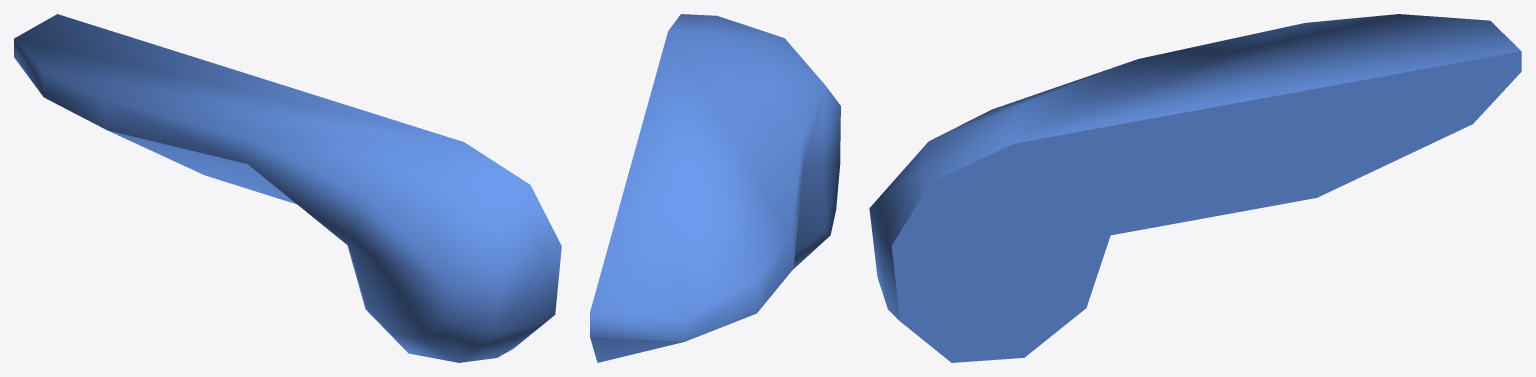
Rendered from original-8.obj.
3 renders of one model, left to right at view 1: azimuth 30°, elevation 25°; view 2: azimuth 150°, elevation 25°; view 3: azimuth 270°, elevation 25°, orthographic. The views are drawn at different scales.
Visible parts, largest first — view 1: Lever1/Lever/mesh22/mesh22-geometry#mesh22-geometry; view 2: Lever1/Lever/mesh22/mesh22-geometry#mesh22-geometry; view 3: Lever1/Lever/mesh22/mesh22-geometry#mesh22-geometry.
Boxes of the visible parts, x1,y1,x2,y2 form: Lever1/Lever/mesh22/mesh22-geometry#mesh22-geometry: [14, 14, 561, 362]; Lever1/Lever/mesh22/mesh22-geometry#mesh22-geometry: [590, 14, 840, 362]; Lever1/Lever/mesh22/mesh22-geometry#mesh22-geometry: [869, 14, 1521, 362].
Bounding box in the file's own units: 0.0687 × 0.0456 × 0.1247.
